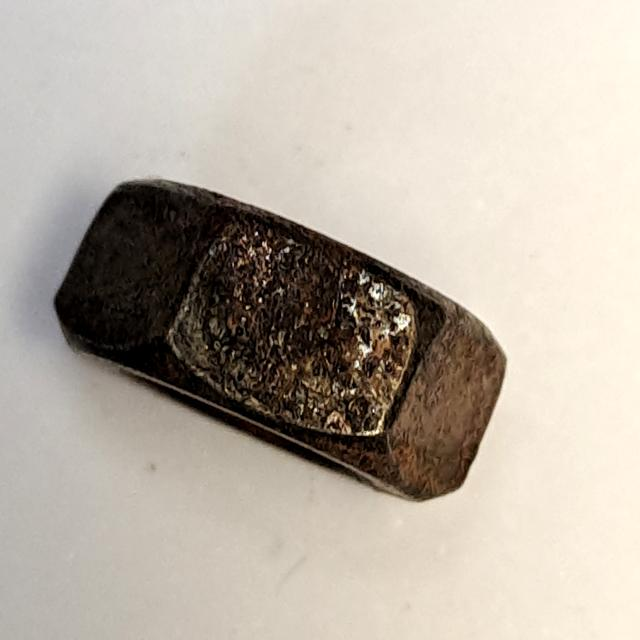Side_Rust: (38, 145, 531, 522)
